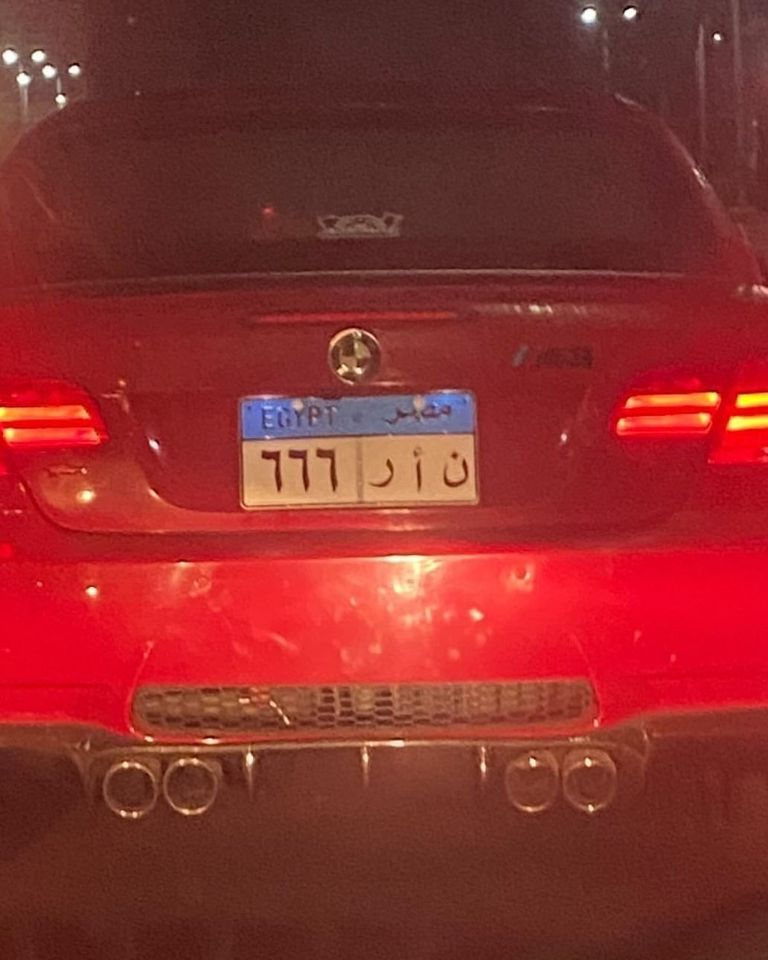carpl: (238, 392, 478, 511)
